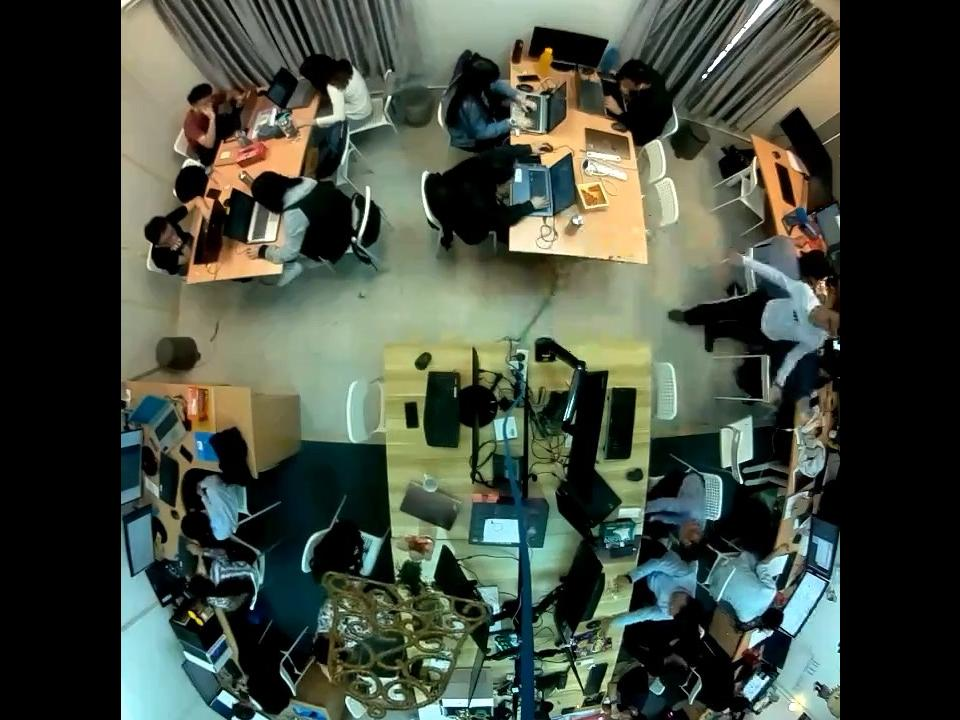name-tag: (791, 307, 801, 326)
